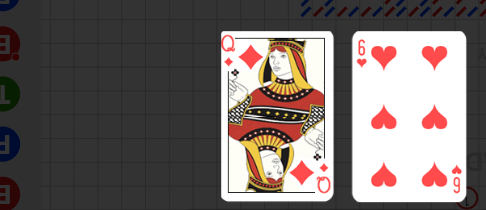6H: (451, 164, 463, 195)
QD: (234, 31, 278, 78), (301, 152, 345, 198)
